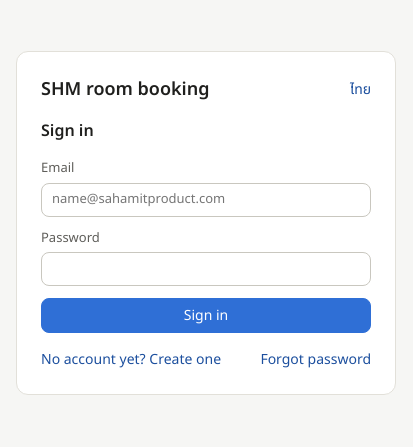
Test: AuthScreen sign-up › a disabled account trying to sign in is told so
The width and height of the screenshot is (413, 447).
Type "ta@sahamitproduct.com" into the field labelled "Email" at (206, 200), box [41,182,371,216]
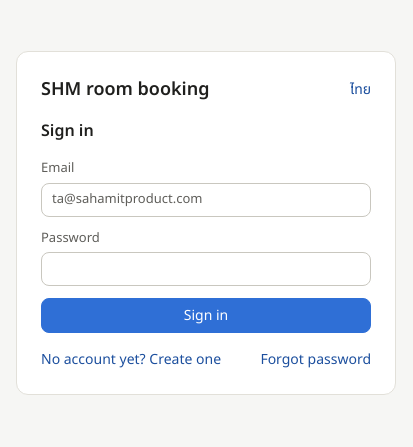
Type "secret1" into the password field labelled "Password" at (206, 269), box [41,252,371,286]
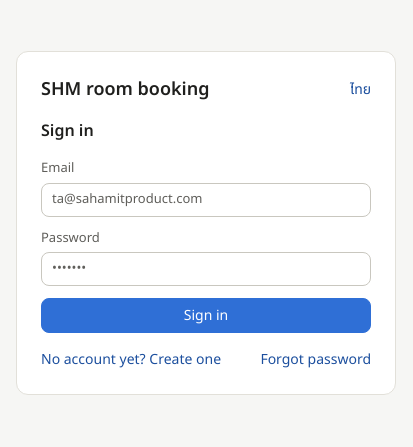
Submit the form, box [41,159,371,333]
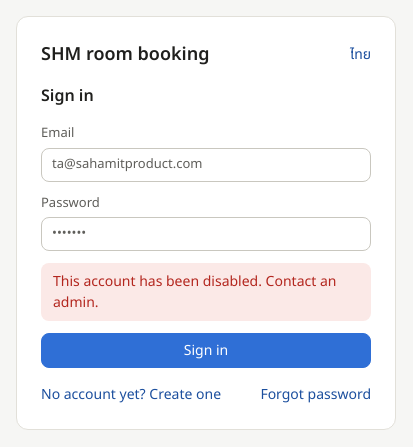
Now the text "This account has been disabled. Contact an admin." is shown, box [41,263,371,321]
